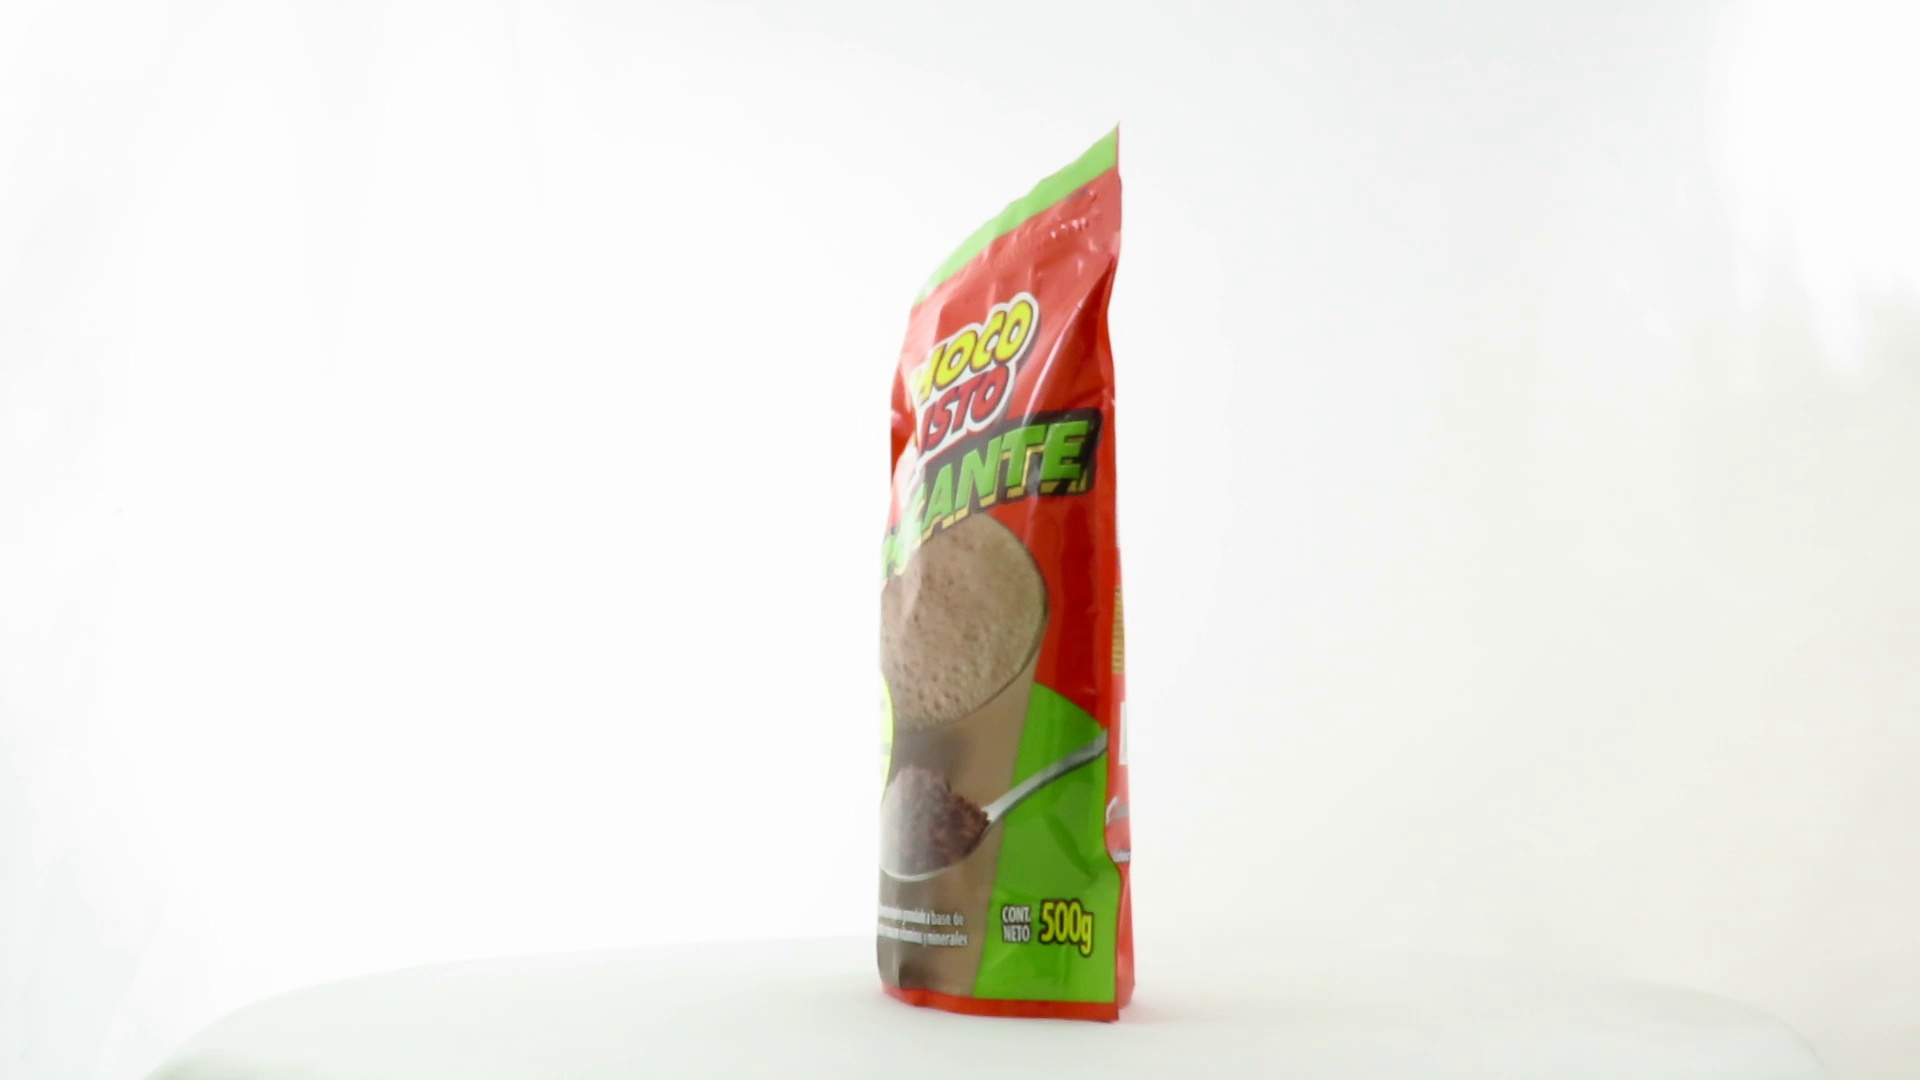COL0170102DYP50000: (872, 115, 1141, 1030)
